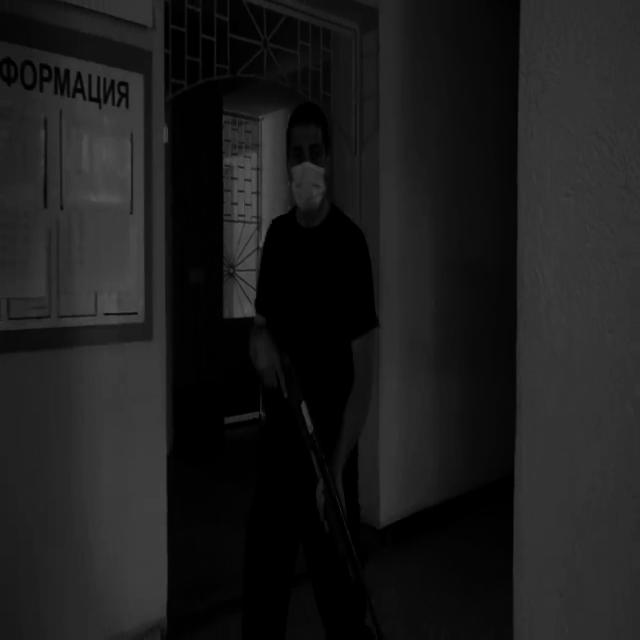gun: (276, 338, 385, 640)
person with a gun: (243, 102, 385, 640)
